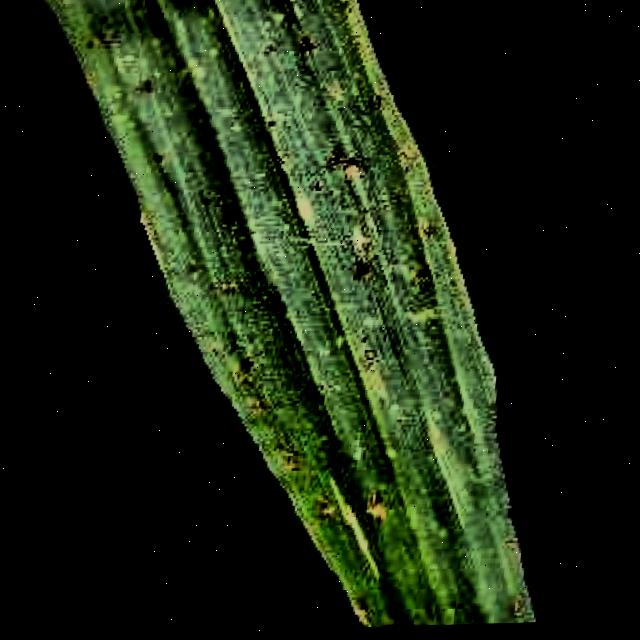common_rust: (63, 0, 528, 629)
